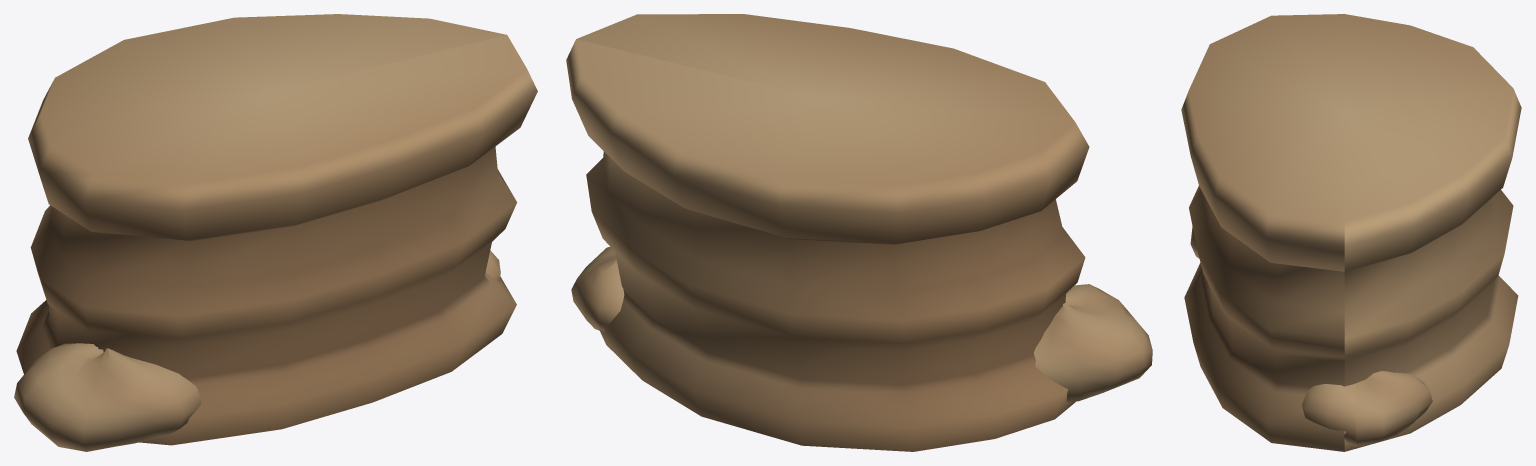
Rendered from sandstone.glb.
The picture shows the model from 3 angles, left to right: view 1: azimuth 30°, elevation 25°; view 2: azimuth 150°, elevation 25°; view 3: azimuth 270°, elevation 25°; orthographic projection. The views are drawn at different scales.
Parts seen in each view (by area): view 1: reference-sandstone-surface; view 2: reference-sandstone-surface; view 3: reference-sandstone-surface.
Part boxes in pixels (<box>): reference-sandstone-surface: <box>14,14,537,451</box>; reference-sandstone-surface: <box>566,14,1152,451</box>; reference-sandstone-surface: <box>1181,14,1521,451</box>.
Size of the model in its own units: 2.42 by 1.13 by 1.44.
